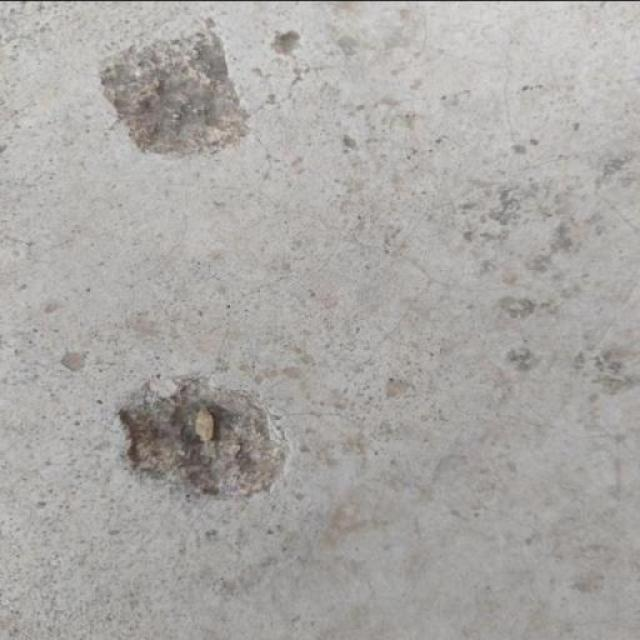D10: (99, 16, 250, 158), (116, 378, 286, 500)
